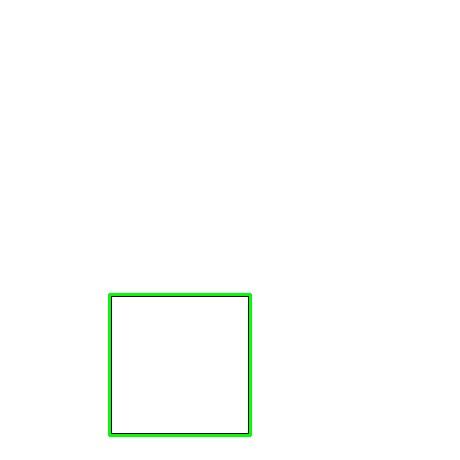line_segment: (108, 293, 252, 437)
